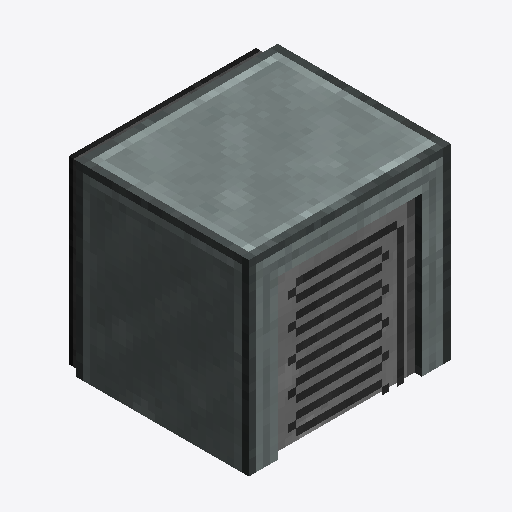
A Minecraft block model of 11 cuboids, rendered isometrically (azimuth 45°, elevation 35.3°) with the resource pack's own textures.
Visible parts, largest first — Static_Right, Static_Top, Static_Back, Static_Left, Static_Heatsink, Static_SealRight, Static_SealTop.
Part boxes in pixels (left/top/right/bottom): Static_Right: left=76, top=144, right=277, bottom=475; Static_Top: left=105, top=61, right=421, bottom=275; Static_Back: left=278, top=198, right=414, bottom=450; Static_Left: left=249, top=44, right=450, bottom=376; Static_Heatsink: left=288, top=221, right=403, bottom=435; Static_SealRight: left=69, top=173, right=75, bottom=367; Static_SealTop: left=84, top=56, right=248, bottom=151.
Size of the model in its own units: 14 by 13 by 13.